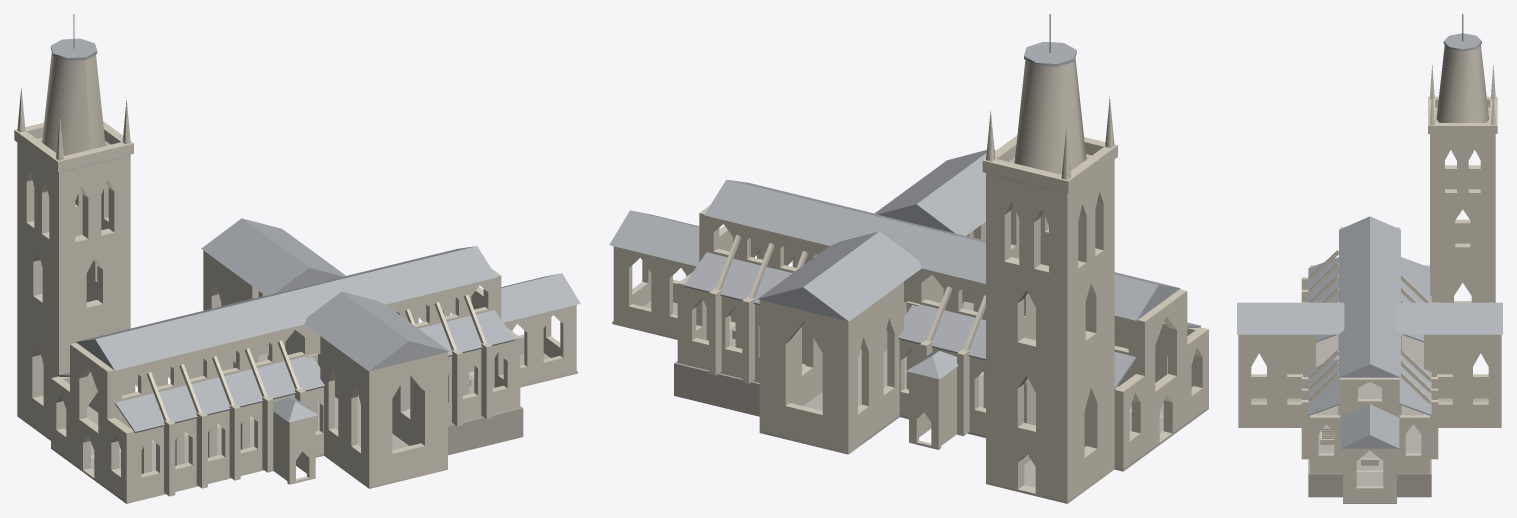
Rendered from st-mary-redcliffe-1480.glb.
3 views of the same model, side by side, from view 1: azimuth 30°, elevation 25°; view 2: azimuth 150°, elevation 25°; view 3: azimuth 270°, elevation 25° (orthographic). The views are drawn at different scales.
Parts seen in each view (by area): view 1: buttress-choir-north-01; view 2: buttress-choir-north-01; view 3: buttress-choir-north-01.
Boxes of the visible parts, x1,y1,x2,y2 form: buttress-choir-north-01: (14, 14, 580, 503); buttress-choir-north-01: (609, 14, 1208, 503); buttress-choir-north-01: (1237, 14, 1502, 503).
Size of the model in its own units: 72.4 by 64.2 by 44.4.
